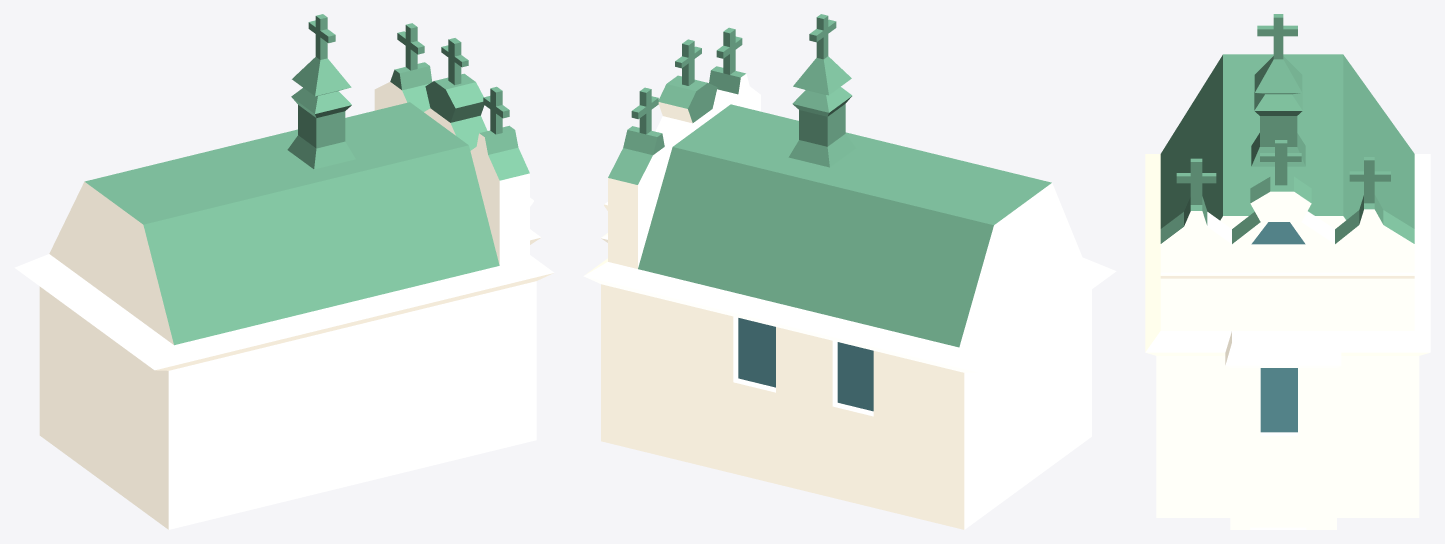
The model's file is kosciol.fbx.
3 renders of one model, left to right at view 1: azimuth 30°, elevation 25°; view 2: azimuth 150°, elevation 25°; view 3: azimuth 270°, elevation 25°, orthographic. The views are drawn at different scales.
Visible parts, largest first — view 1: Cube; view 2: Cube; view 3: Cube.
Part boxes in pixels (box(x1,y1,x2,y2)): Cube: box(14, 14, 554, 529); Cube: box(583, 14, 1116, 529); Cube: box(1145, 14, 1430, 529).
Size of the model in its own units: 1017 by 952 by 580.
